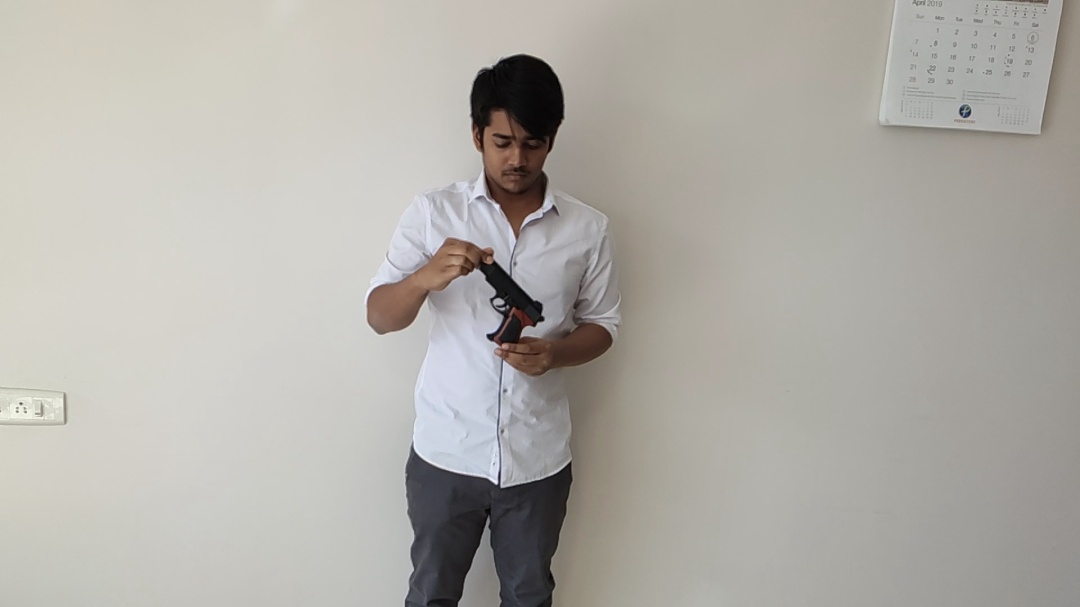gun: (478, 261, 545, 344)
